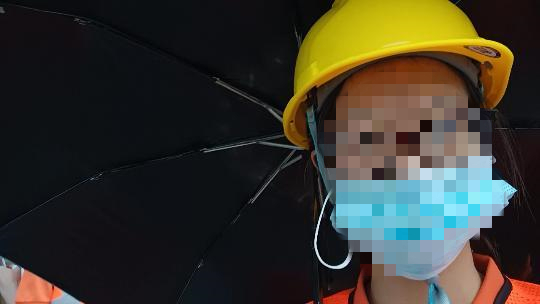helmet: (279, 3, 514, 157)
person: (257, 1, 530, 304)
